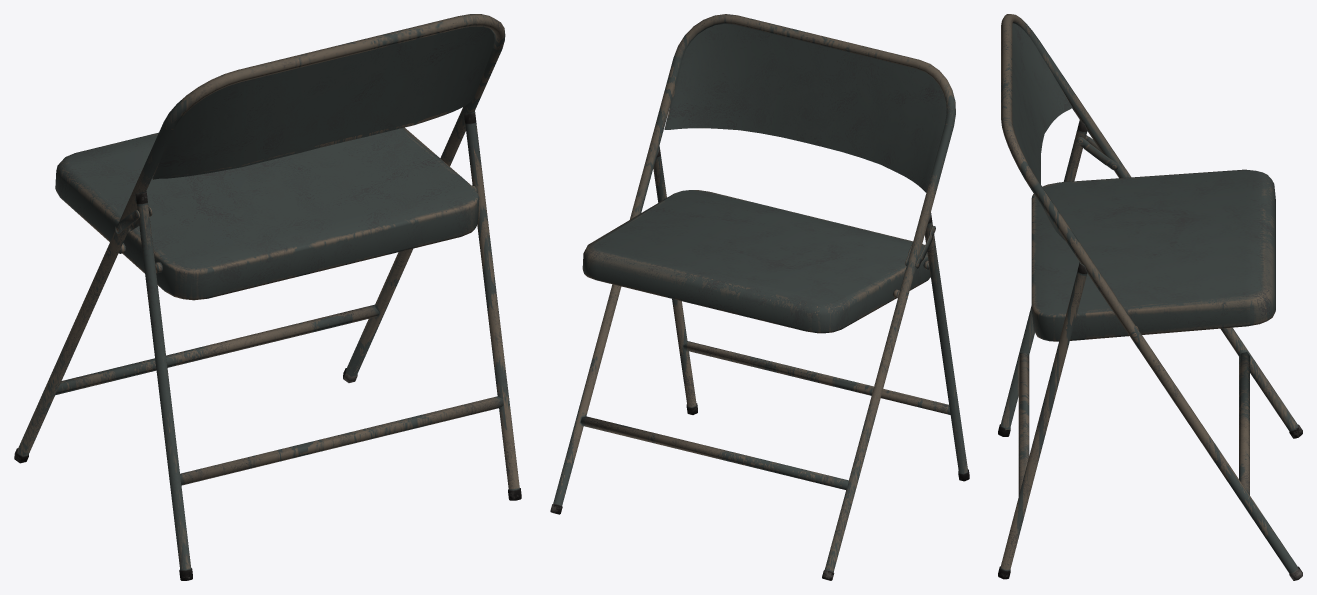
The model's file is Old chair.fbx.
3 renders of one model, left to right at view 1: azimuth 30°, elevation 25°; view 2: azimuth 150°, elevation 25°; view 3: azimuth 270°, elevation 25°, orthographic. The views are drawn at different scales.
Visible parts, largest first — view 1: metal_chair_metal_chair_0; view 2: metal_chair_metal_chair_0; view 3: metal_chair_metal_chair_0.
Boxes of the visible parts, x1,y1,x2,y2 form: metal_chair_metal_chair_0: [14, 14, 521, 580]; metal_chair_metal_chair_0: [550, 14, 969, 580]; metal_chair_metal_chair_0: [998, 14, 1302, 580].
Bounding box in the file's own units: 27.28 × 37.79 × 23.7.
Materials: 1 (1 with a texture image).
